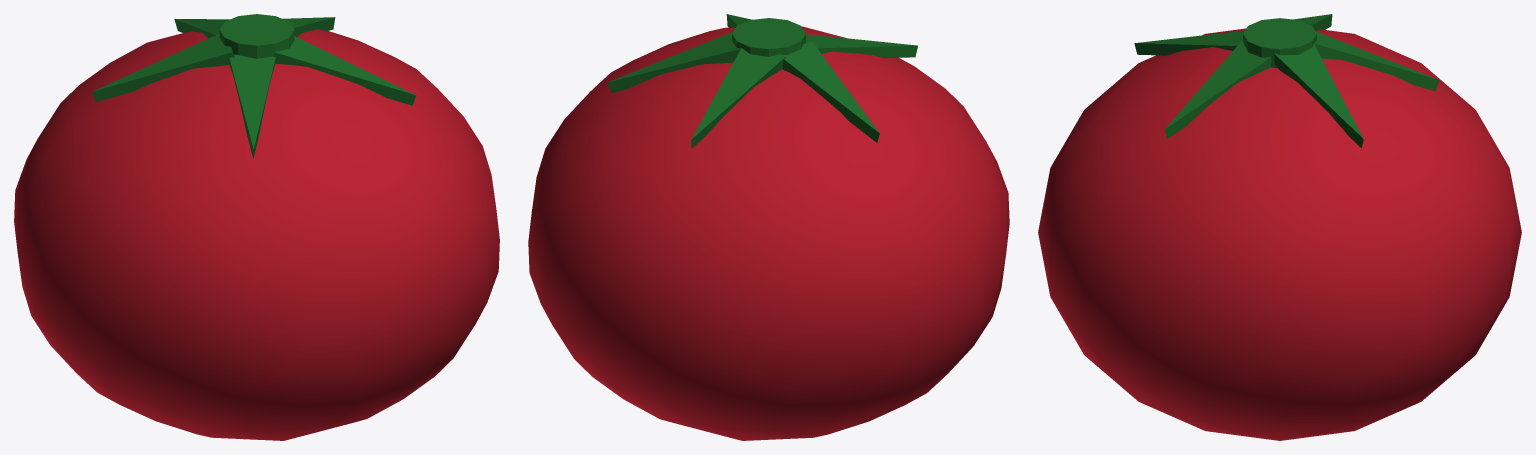
Rendered from TOMATO.fbx.
3 renders of one model, left to right at view 1: azimuth 30°, elevation 25°; view 2: azimuth 150°, elevation 25°; view 3: azimuth 270°, elevation 25°, orthographic.
Parts seen in each view (by area): view 1: Icosphere, Cylinder; view 2: Icosphere, Cylinder; view 3: Icosphere, Cylinder.
Part boxes in pixels (x1=…): Icosphere: x1=14, y1=29, x2=499, y2=440; Cylinder: x1=92, y1=14, x2=416, y2=158; Icosphere: x1=528, y1=26, x2=1009, y2=440; Cylinder: x1=607, y1=14, x2=917, y2=148; Icosphere: x1=1038, y1=28, x2=1521, y2=440; Cylinder: x1=1134, y1=14, x2=1439, y2=147.
Bounding box in the file's own units: 185 × 161 × 185.
